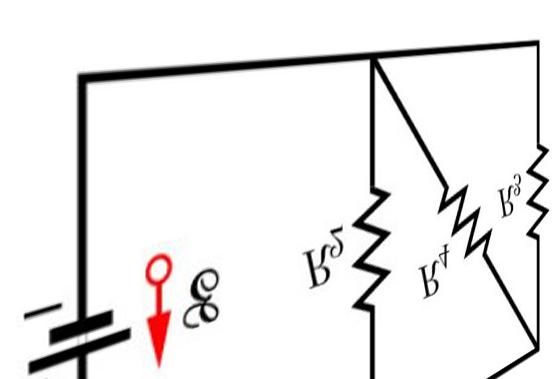resistor: (351, 172, 396, 332), (427, 171, 499, 257)
